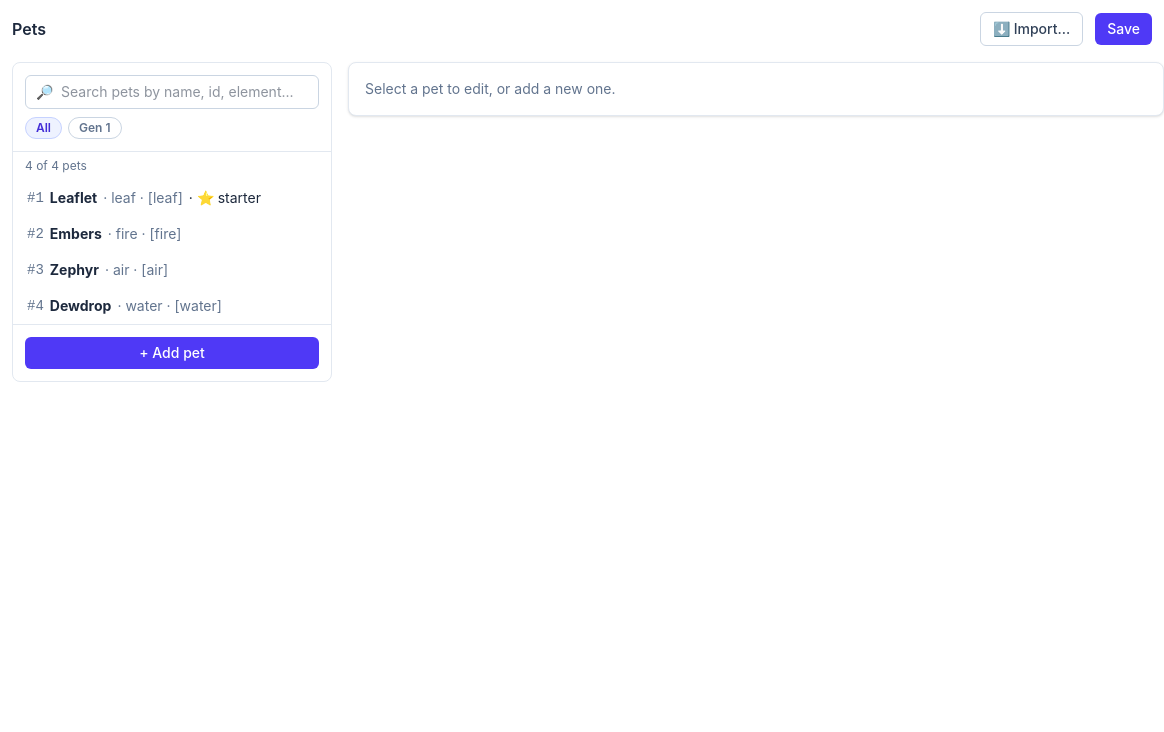
PetsTab — edit form › edits the name
Expected: the button "+ Add pet" is shown, [25, 337, 319, 369]
Click the button "#1 Leaflet · leaf · [leaf] · ⭐ starter".
click(172, 198)  # box [13, 180, 331, 216]
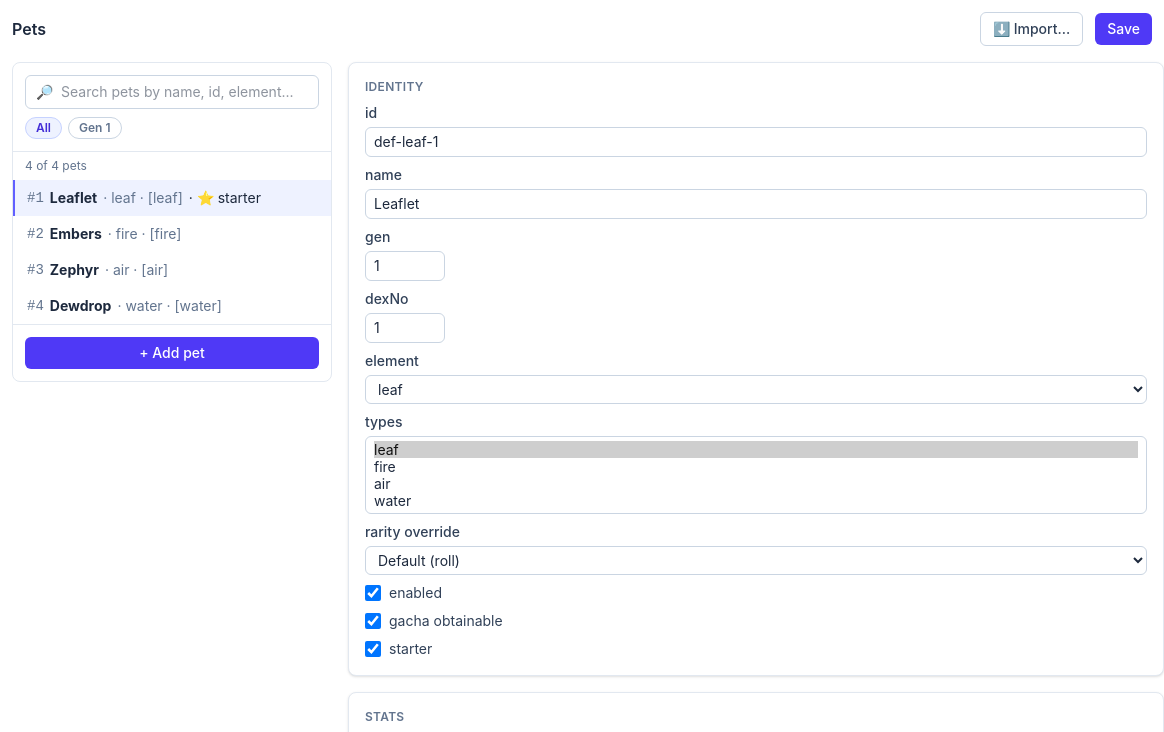
Replace the text in the field labelled "name" with "Sprout" at (756, 204), box [365, 189, 1147, 219]
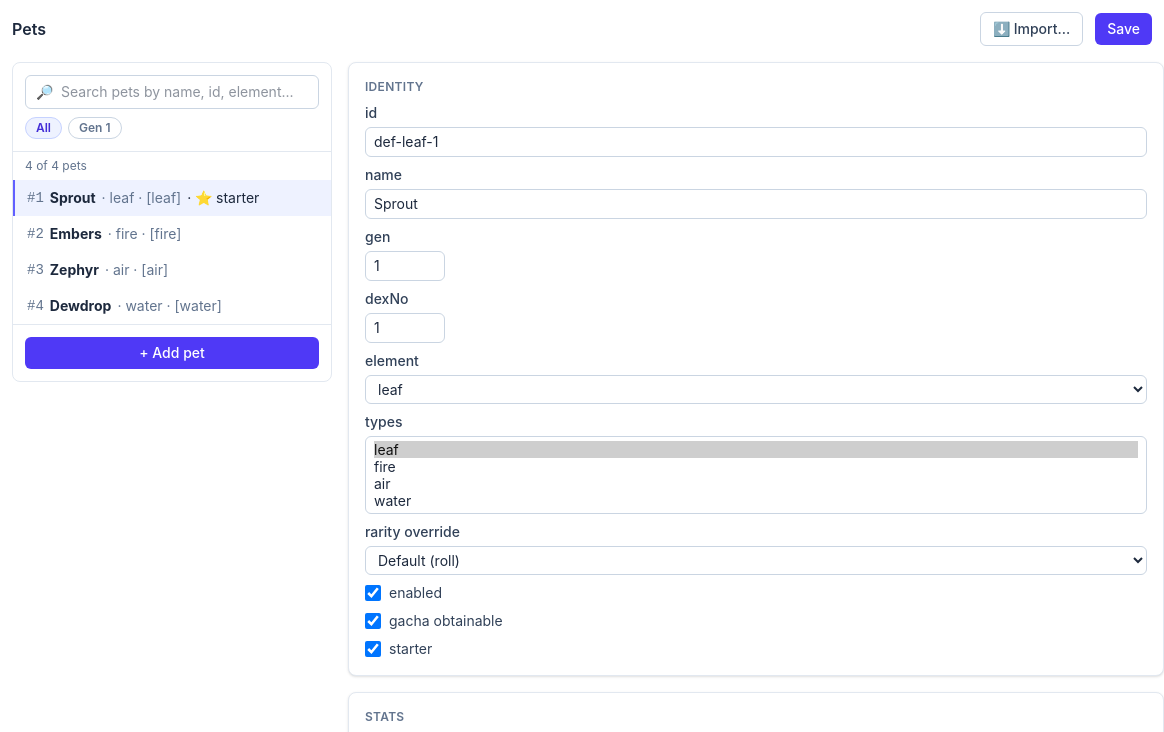
Expected: the text "Sprout" is shown, [50, 188, 96, 208]
